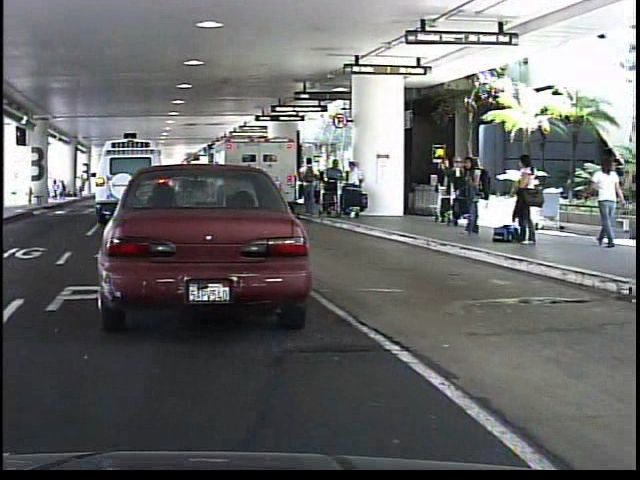person: (586, 154, 626, 250), (509, 149, 538, 248)
